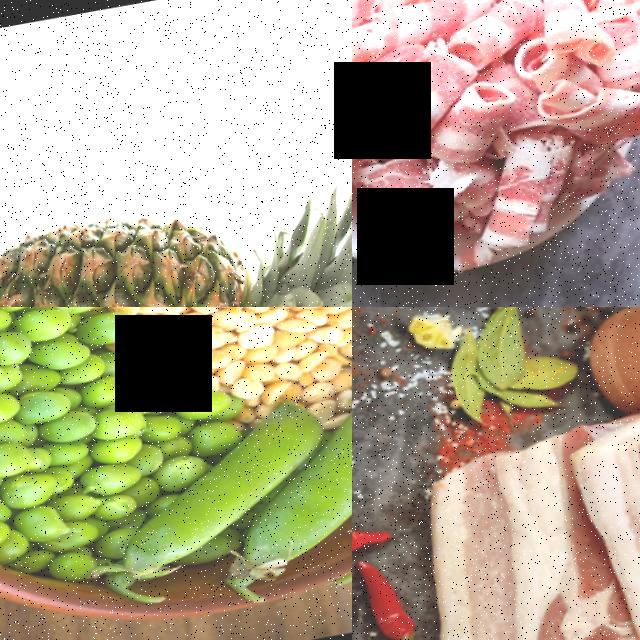peas: (0, 360, 214, 549), (0, 307, 101, 429)
pineapple: (0, 163, 352, 307)
pork belly: (367, 415, 640, 640), (465, 120, 589, 254), (352, 45, 452, 206), (352, 0, 502, 72), (526, 0, 622, 75)
